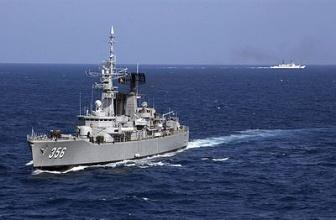warship: (21, 23, 190, 170), (269, 57, 308, 68)
